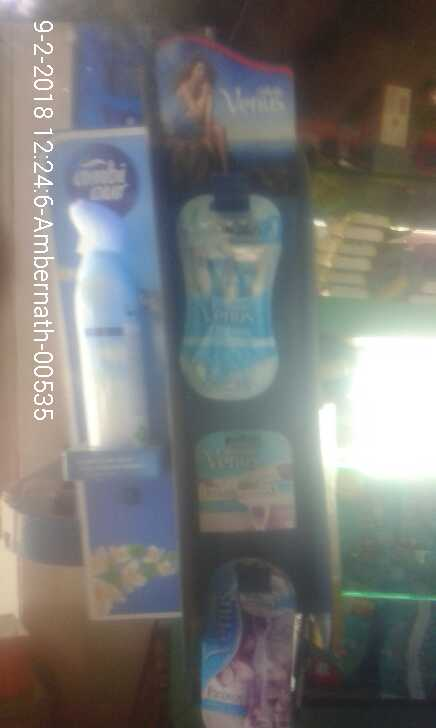beauty: (174, 185, 298, 399), (197, 562, 305, 714), (194, 435, 295, 530)
home: (65, 198, 150, 455)
